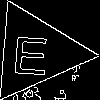E: (10, 27, 51, 75)
